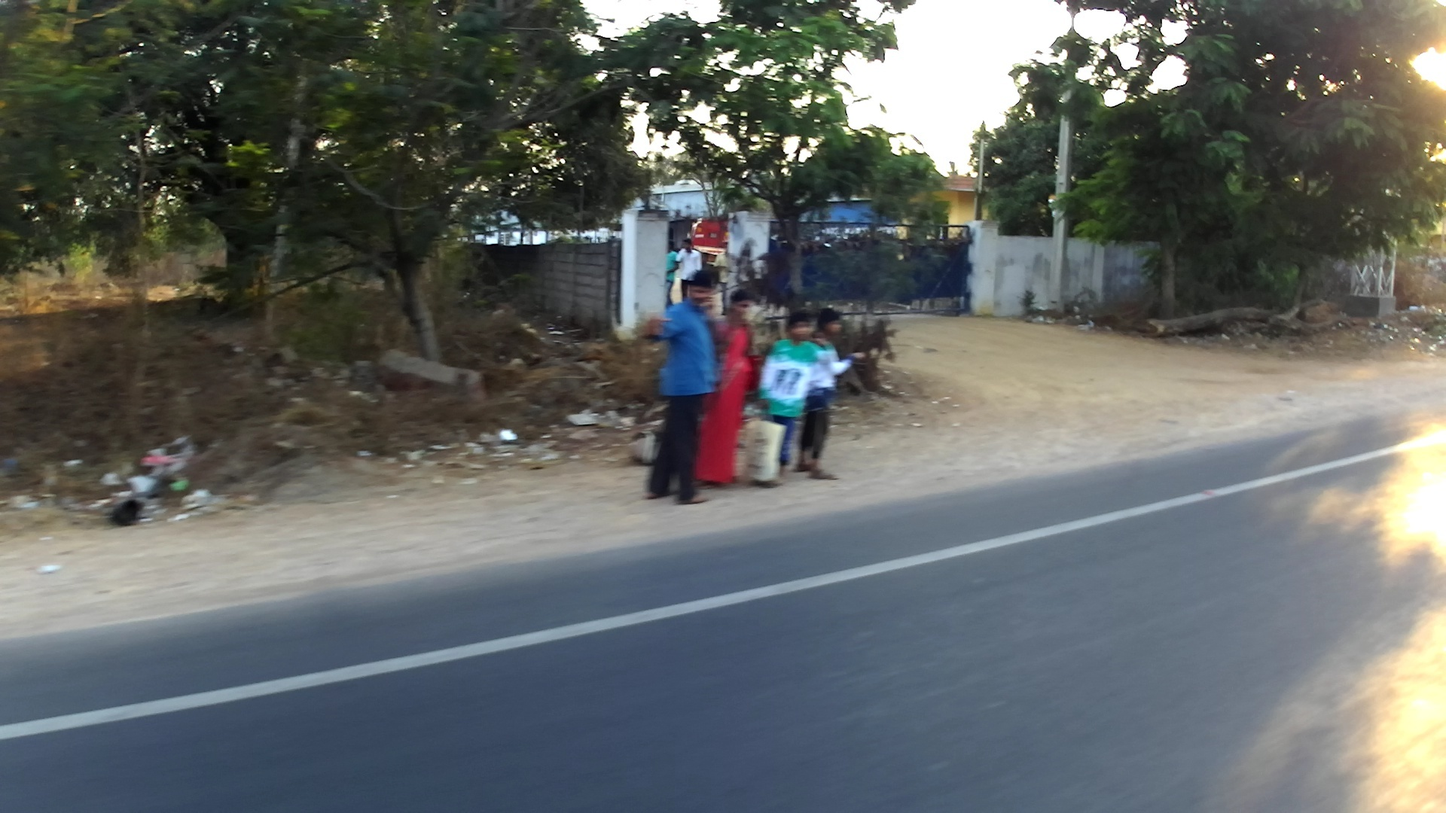person: (636, 266, 726, 508), (689, 285, 761, 490), (760, 310, 834, 489), (788, 309, 865, 481), (676, 240, 701, 299), (715, 241, 731, 320), (666, 236, 679, 310)
truck: (688, 219, 731, 285)
